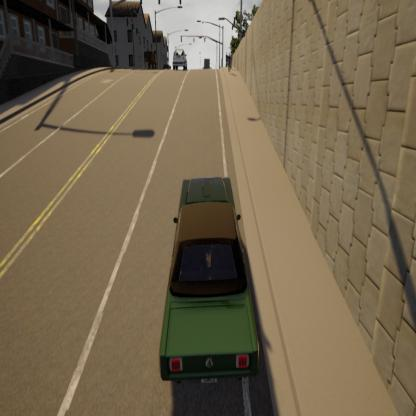Cars: (150, 168, 266, 396), (170, 47, 189, 72)
Pedestrian: (227, 50, 232, 75), (224, 48, 229, 69)
